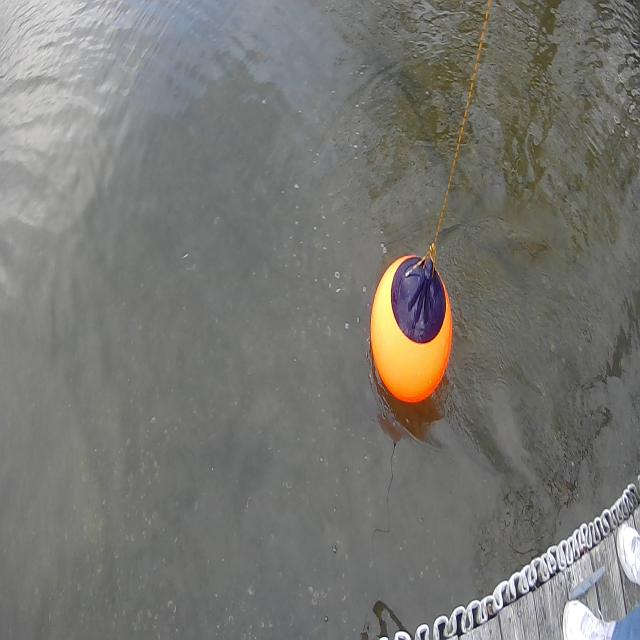Buoy: (362, 237, 460, 420)
